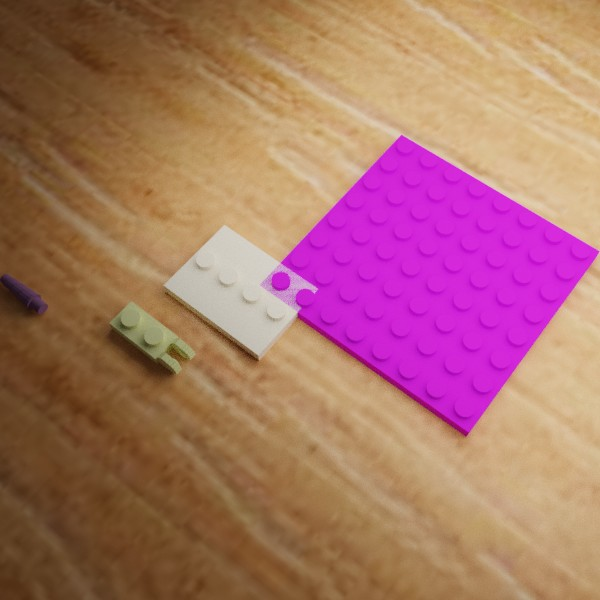lego: (259, 134, 600, 436), (163, 224, 318, 360), (109, 301, 195, 374), (0, 273, 48, 314)
